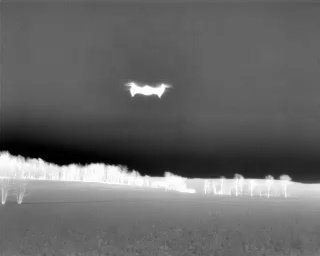DRONE: (120, 75, 175, 104)
